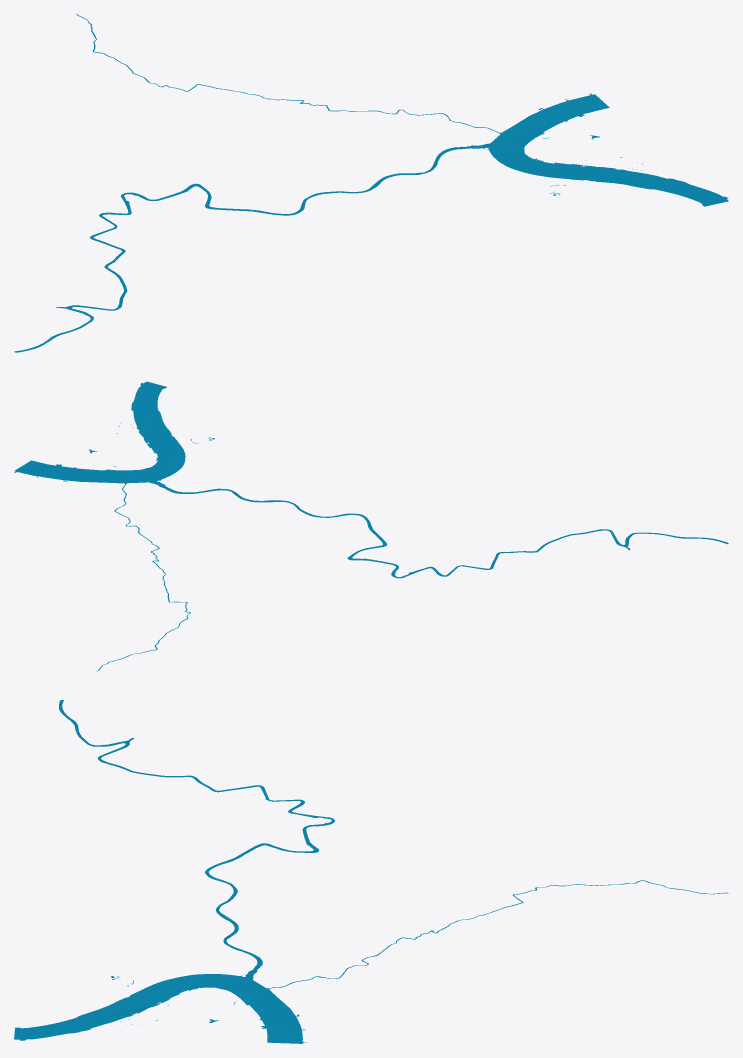
The model's file is water.glb.
3 renders of one model, top to bottom at view 1: azimuth 30°, elevation 25°; view 2: azimuth 150°, elevation 25°; view 3: azimuth 270°, elevation 25°, orthographic. The views are drawn at different scales.
Visible parts, largest first — view 1: water; view 2: water; view 3: water.
Part boxes in pixels (left/top/right/bottom): water: left=14, top=14, right=728, bottom=352; water: left=14, top=381, right=728, bottom=671; water: left=14, top=700, right=728, bottom=1043.
Bounding box in the file's own units: 10738 × 20.97 × 9435.
